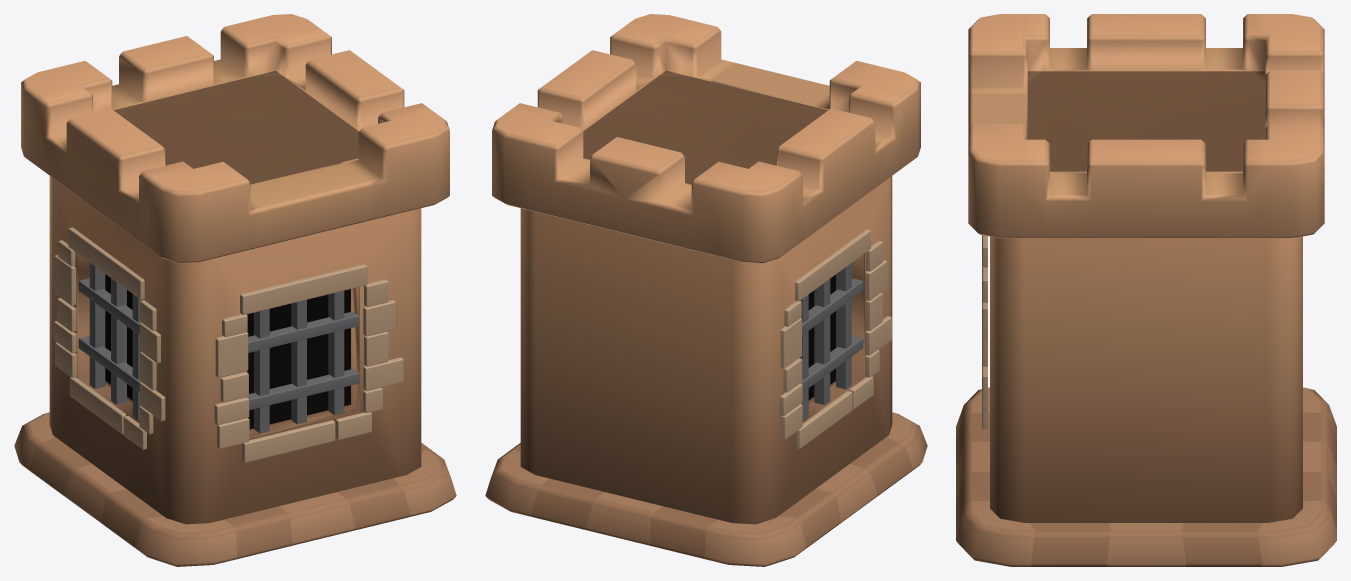
The model's file is Checkpoint_4.fbx.
3 views of the same model, side by side, from view 1: azimuth 30°, elevation 25°; view 2: azimuth 150°, elevation 25°; view 3: azimuth 270°, elevation 25° (orthographic). The views are drawn at different scales.
Parts seen in each view (by area): view 1: Checkpoint_4; view 2: Checkpoint_4; view 3: Checkpoint_4.
Boxes of the visible parts, bbox=[...] form: Checkpoint_4: bbox=[14, 14, 456, 566]; Checkpoint_4: bbox=[485, 14, 927, 566]; Checkpoint_4: bbox=[956, 14, 1336, 566].
Size of the model in its own units: 281 by 326 by 281.
